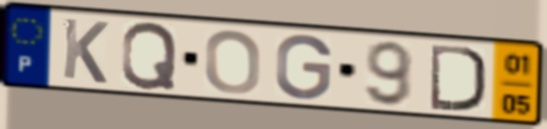9: (362, 38, 416, 109)
D: (428, 41, 489, 115)
G: (272, 32, 335, 102)
K: (59, 15, 111, 87)
O: (202, 27, 264, 96)
Q: (119, 20, 180, 91)
